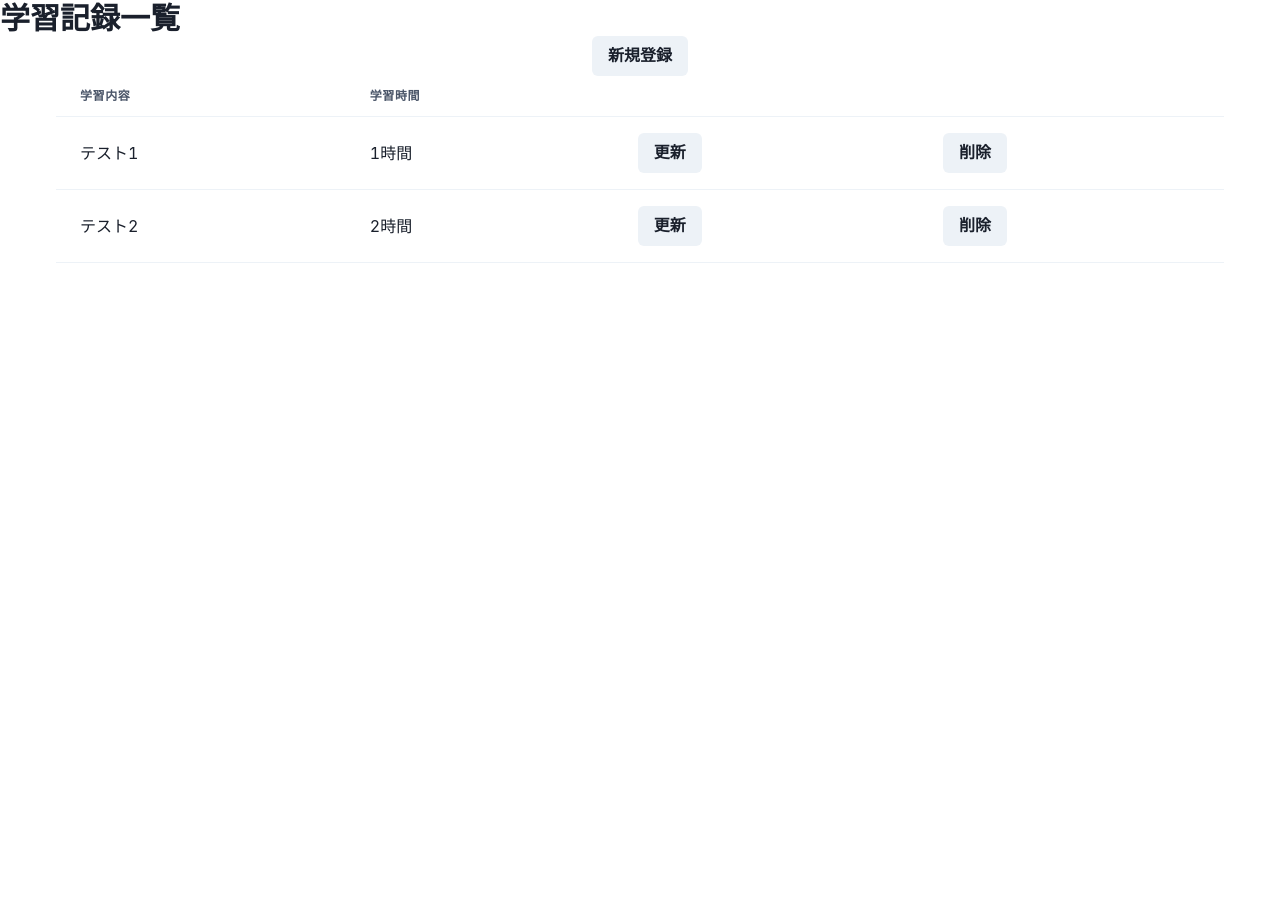
Scenario: ページ内容のテスト › モーダルのタイトルが記録編集である
This screenshot has width=1280, height=900.
削除ボタンをクリック
What coordinates should you click on to do the following:
click the button with test id "update-button_1"
I would click on:
 (670, 153)
Its box is [638, 133, 702, 173].
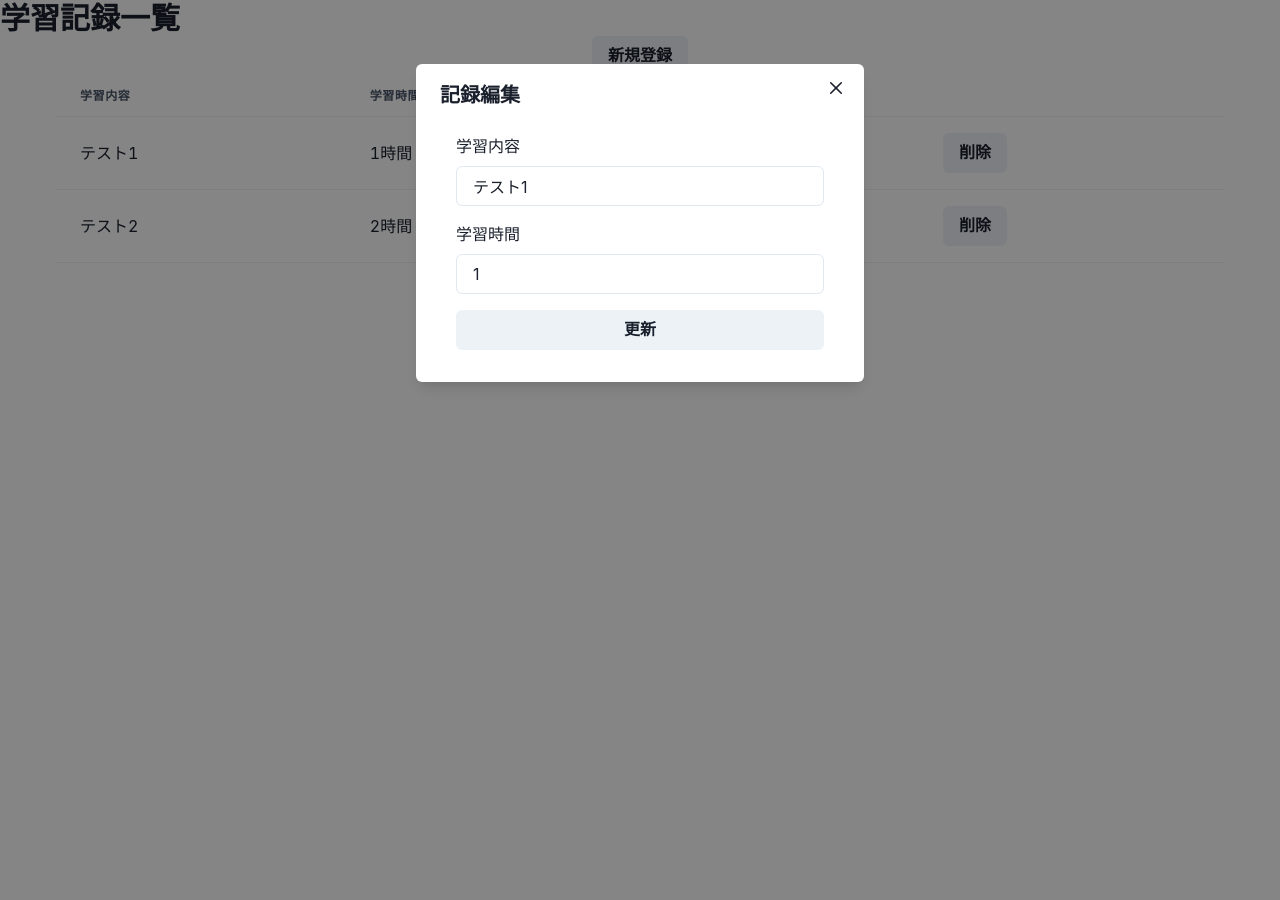
Expected: the header with test id "modal-header" reads "記録編集", [440, 83, 520, 107]
